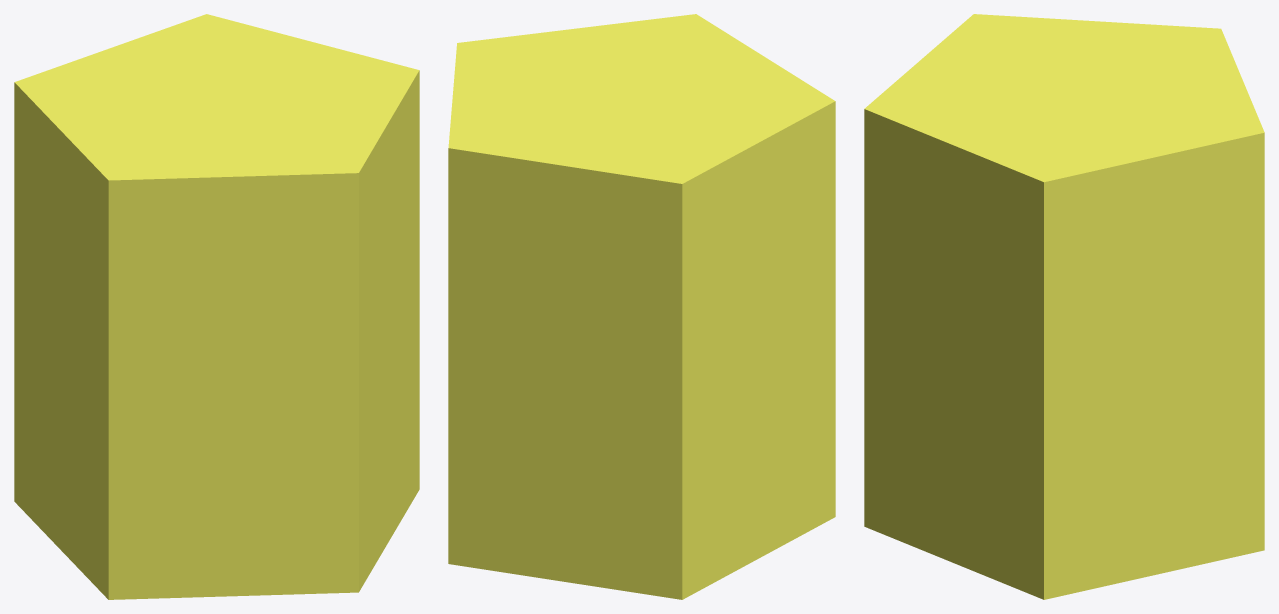
Rendered from Prisma_Pentagonal.fbx.
3 views of the same model, side by side, from view 1: azimuth 30°, elevation 25°; view 2: azimuth 150°, elevation 25°; view 3: azimuth 270°, elevation 25° (orthographic).
Visible parts, largest first — view 1: Model; view 2: Model; view 3: Model.
Boxes of the visible parts, left/top/right/bottom form: Model: left=14, top=14, right=419, bottom=599; Model: left=448, top=14, right=835, bottom=599; Model: left=864, top=14, right=1264, bottom=599.
Size of the model in its own units: 93.66 by 108 by 94.18.
